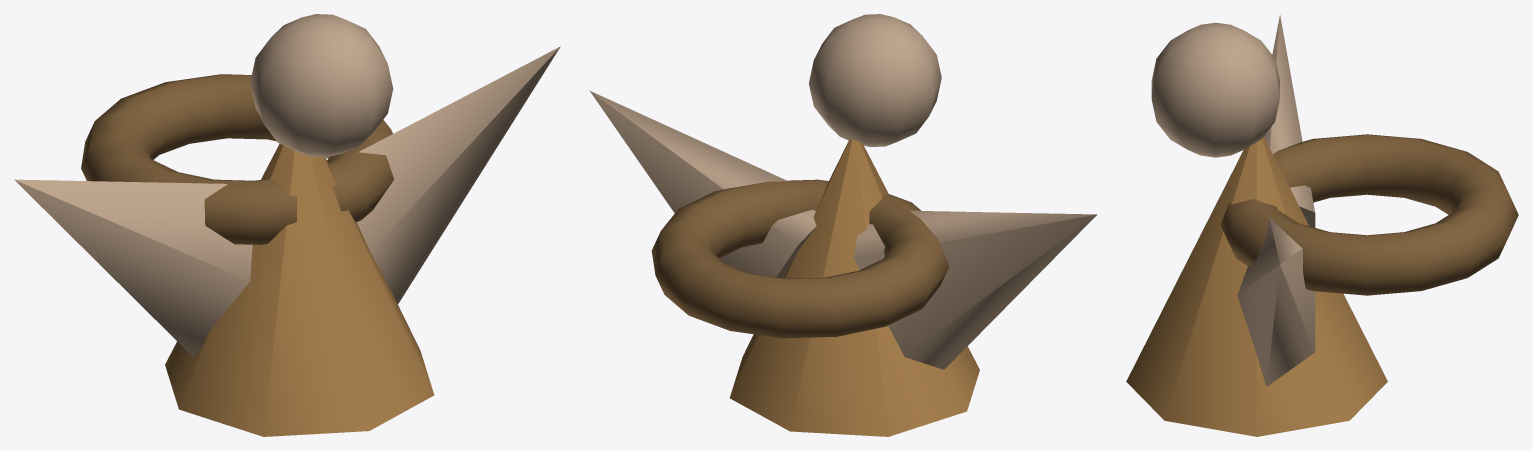
Rendered from clockwork_monster_2.glb.
3 views of the same model, side by side, from view 1: azimuth 30°, elevation 25°; view 2: azimuth 150°, elevation 25°; view 3: azimuth 270°, elevation 25° (orthographic). The views are drawn at different scales.
Visible parts, largest first — view 1: CoreBody, MOTIF_clockwork_gear, Wing_-1, Wing_1, Head; view 2: MOTIF_clockwork_gear, CoreBody, Wing_-1, Head, Wing_1; view 3: CoreBody, MOTIF_clockwork_gear, Head, Wing_1, Wing_-1.
Part boxes in pixels (bbox=[...]): CoreBody: bbox=[165, 143, 434, 436]; MOTIF_clockwork_gear: bbox=[81, 74, 394, 244]; Wing_-1: bbox=[14, 179, 252, 356]; Wing_1: bbox=[356, 46, 560, 303]; Head: bbox=[250, 14, 393, 157]; MOTIF_clockwork_gear: bbox=[651, 179, 948, 338]; CoreBody: bbox=[730, 139, 979, 436]; Wing_-1: bbox=[853, 210, 1097, 369]; Head: bbox=[809, 14, 941, 147]; Wing_1: bbox=[590, 91, 816, 277]; CoreBody: bbox=[1126, 136, 1387, 436]; MOTIF_clockwork_gear: bbox=[1220, 134, 1518, 295]; Head: bbox=[1151, 22, 1279, 157]; Wing_1: bbox=[1237, 217, 1315, 386]; Wing_-1: bbox=[1264, 15, 1315, 227].
Bounding box in the file's own units: 2.58 × 1.7 × 1.71.
